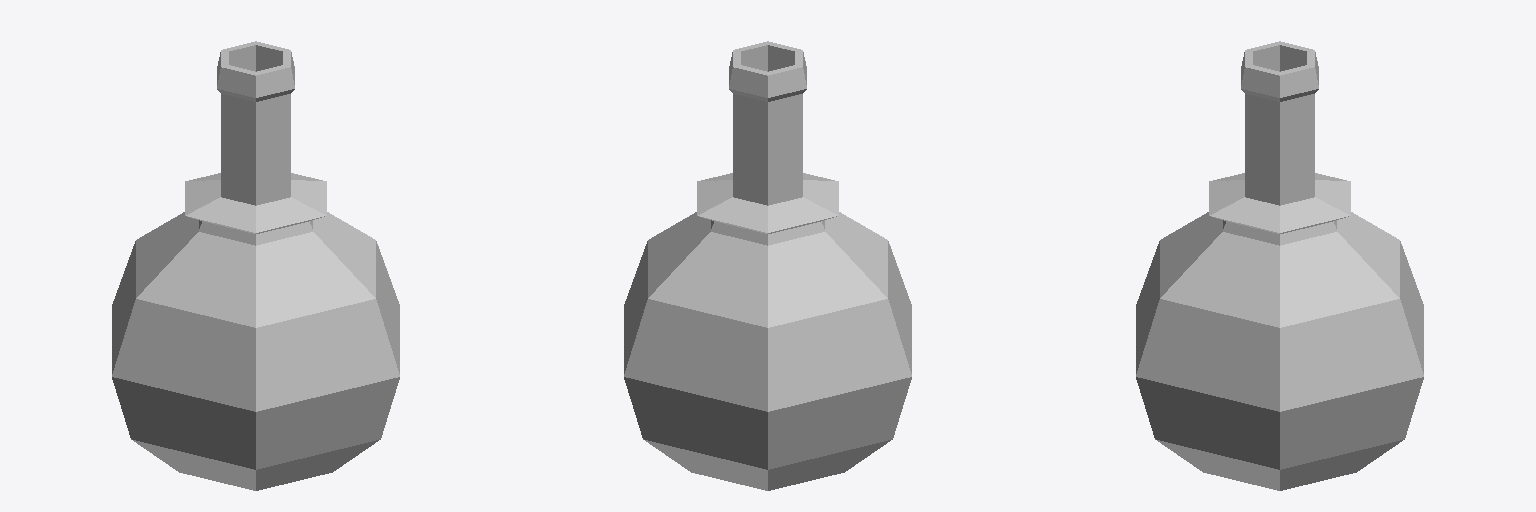
The model's file is empty_LowPoly.obj.
The picture shows the model from 3 angles: view 1: azimuth 30°, elevation 25°; view 2: azimuth 150°, elevation 25°; view 3: azimuth 270°, elevation 25°; orthographic projection.
Parts seen in each view (by area): view 1: empty_lq:polySurface1; view 2: empty_lq:polySurface1; view 3: empty_lq:polySurface1.
Part boxes in pixels (x1,y1,x2,y2): empty_lq:polySurface1: (112, 41, 399, 490); empty_lq:polySurface1: (624, 41, 911, 490); empty_lq:polySurface1: (1136, 41, 1423, 490).
Size of the model in its own units: 7.71 by 10.09 by 6.68.